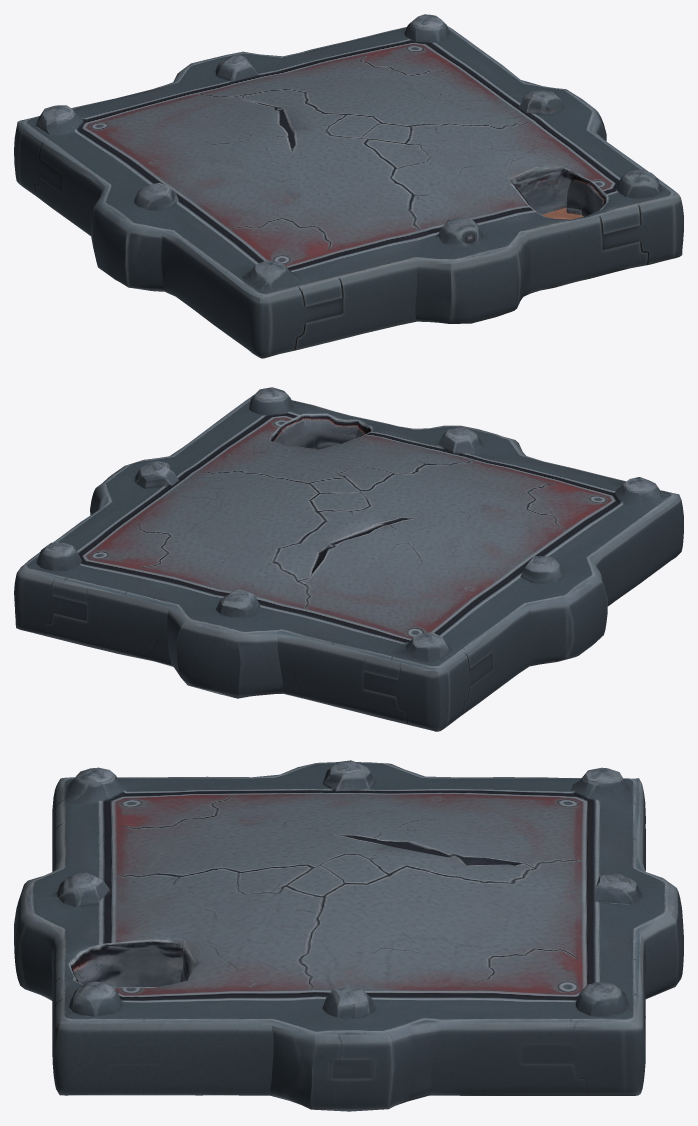
File: walkway_tile_cracked.glb
3 renders of one model, top to bottom at view 1: azimuth 30°, elevation 25°; view 2: azimuth 150°, elevation 25°; view 3: azimuth 270°, elevation 25°, orthographic. The views are drawn at different scales.
Visible parts, largest first — view 1: Mesh_0; view 2: Mesh_0; view 3: Mesh_0.
Boxes of the visible parts, x1,y1,x2,y2 form: Mesh_0: (14, 14, 683, 358); Mesh_0: (14, 387, 683, 731); Mesh_0: (14, 760, 683, 1111).
Size of the model in its own units: 1.9 by 0.3436 by 1.9.
1 material, 1 textured.
